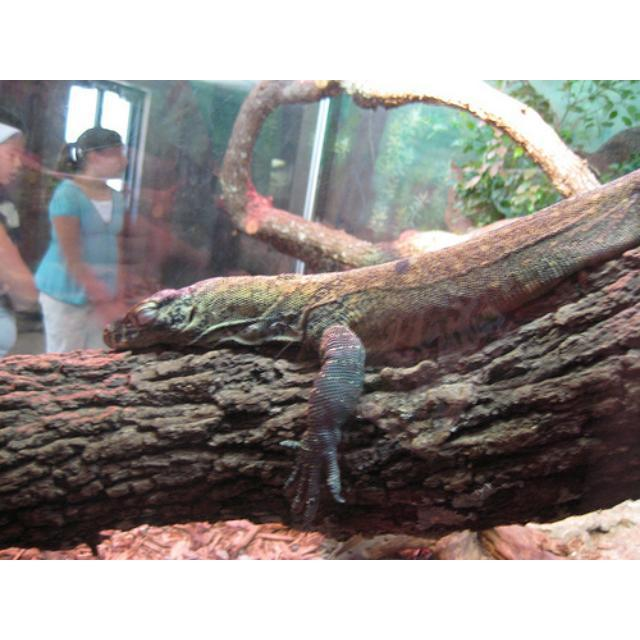KomodoDragon: (100, 169, 636, 509)
